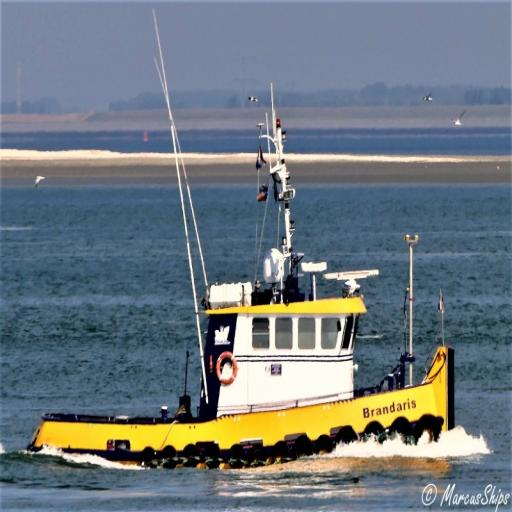tugboat: (25, 159, 458, 479)
